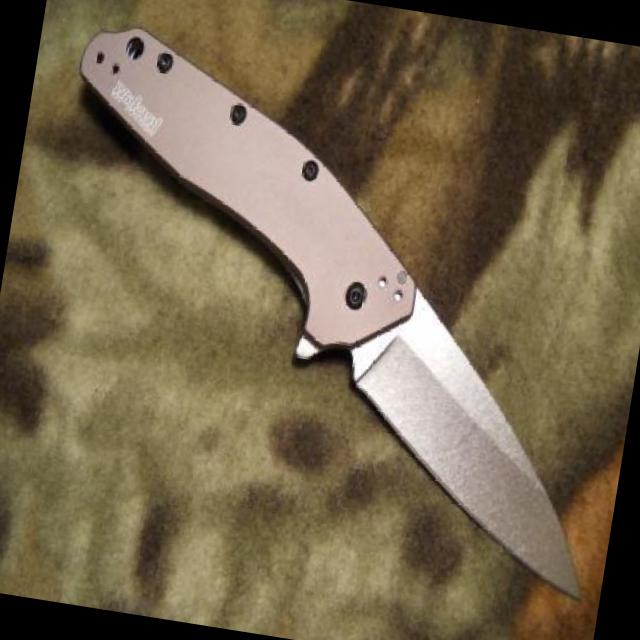knife: (301, 256, 637, 619)
